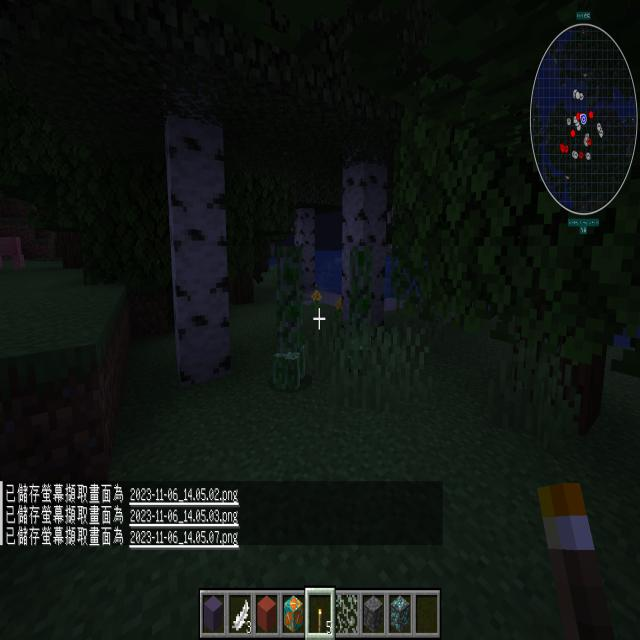Creeper: (261, 231, 319, 401), (342, 240, 380, 386)
pig: (0, 220, 35, 288)
